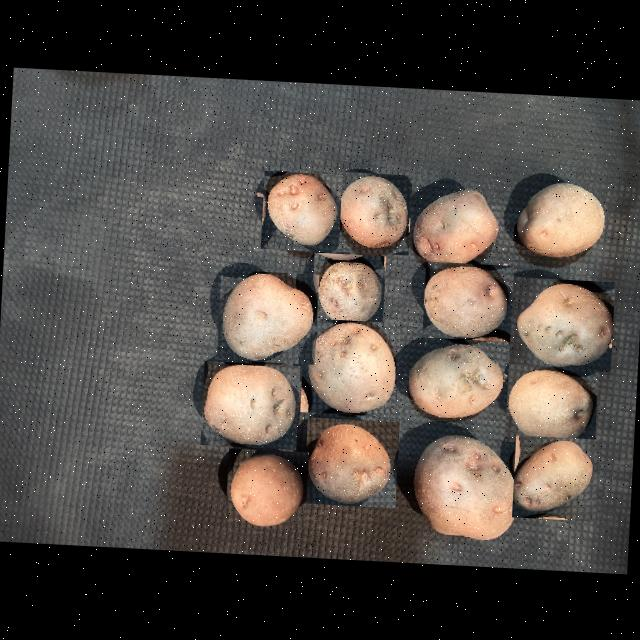Diseased-fungal potato: (407, 430, 520, 547), (508, 276, 614, 371), (299, 317, 400, 416), (215, 268, 318, 364), (404, 336, 506, 424), (200, 360, 300, 449), (302, 417, 398, 508), (510, 174, 610, 260), (409, 178, 501, 270), (504, 362, 598, 446), (511, 434, 599, 520), (421, 260, 513, 341), (224, 448, 308, 530), (260, 170, 342, 252), (332, 170, 412, 254), (310, 252, 386, 330)
